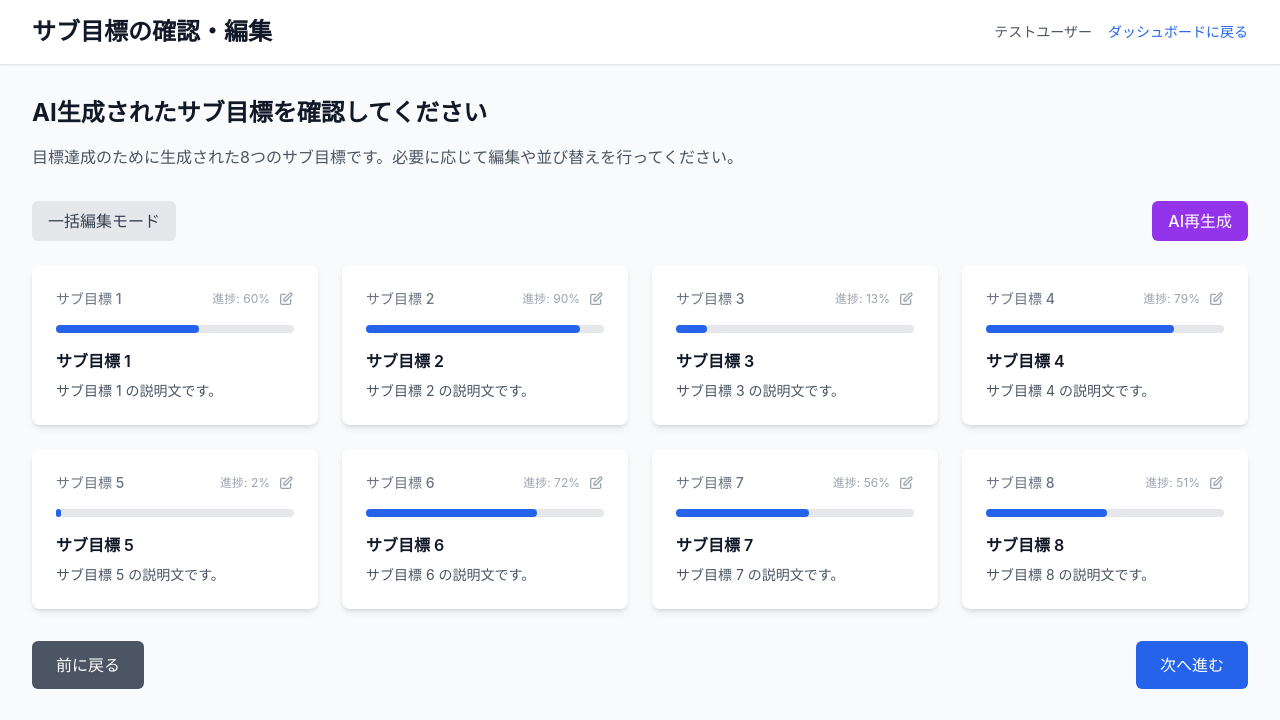
Scenario: SubGoalEditPage › ツールバー › 一括編集モードを切り替えできる
Click the button "一括編集モード". click: (104,221)
box: [32, 201, 176, 241]
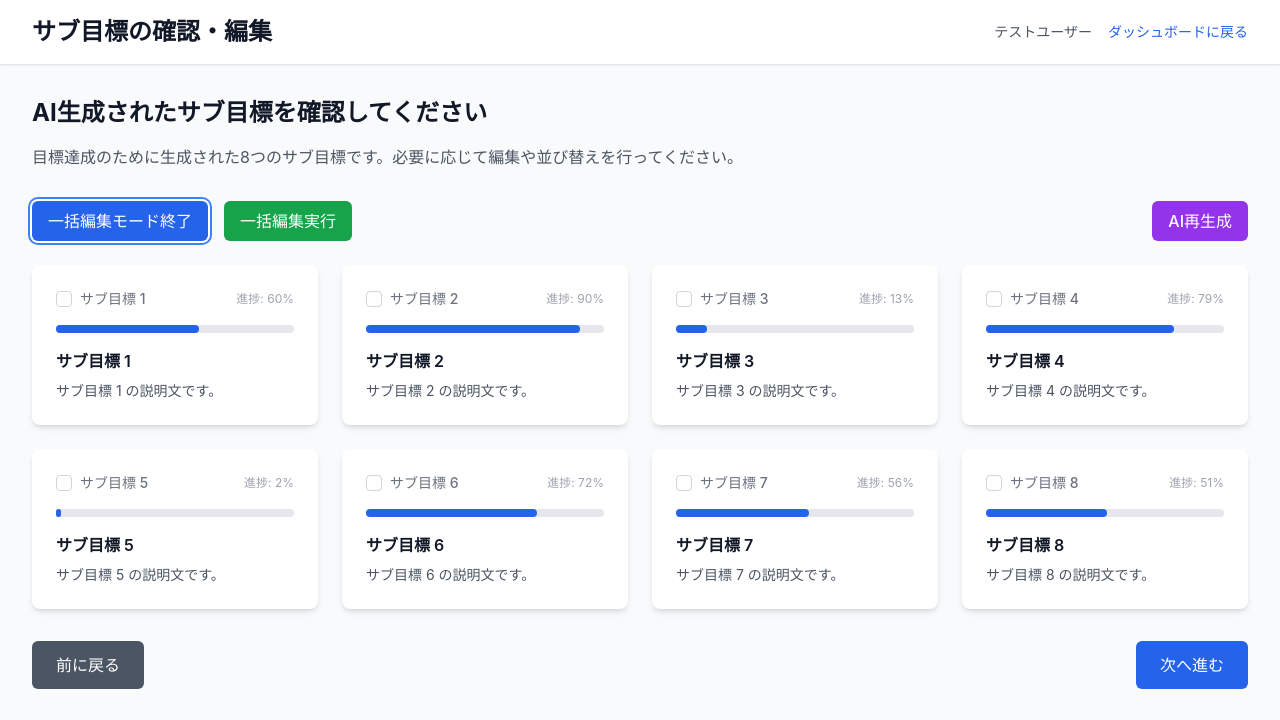
Expected: the button "一括編集モード終了" is shown, [32, 201, 208, 241]
Expected: the button "一括編集実行" is shown, [224, 201, 352, 241]
